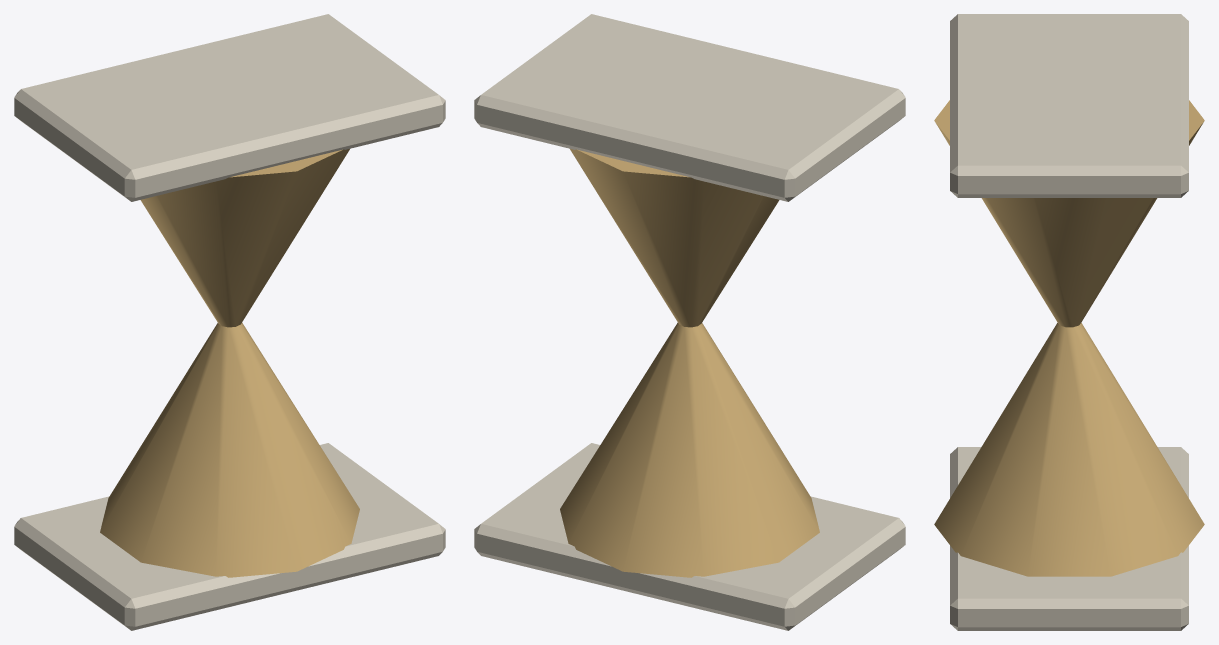
Rendered from hourglass.glb.
The picture shows the model from 3 angles, left to right: view 1: azimuth 30°, elevation 25°; view 2: azimuth 150°, elevation 25°; view 3: azimuth 270°, elevation 25°; orthographic projection.
Visible parts, largest first — view 1: hourglass; view 2: hourglass; view 3: hourglass.
Part boxes in pixels (x1,y1,x2,y2): hourglass: [14, 14, 445, 630]; hourglass: [474, 14, 905, 630]; hourglass: [934, 14, 1204, 630].
Bounding box in the file's own units: 0.2115 × 0.2903 × 0.153.
